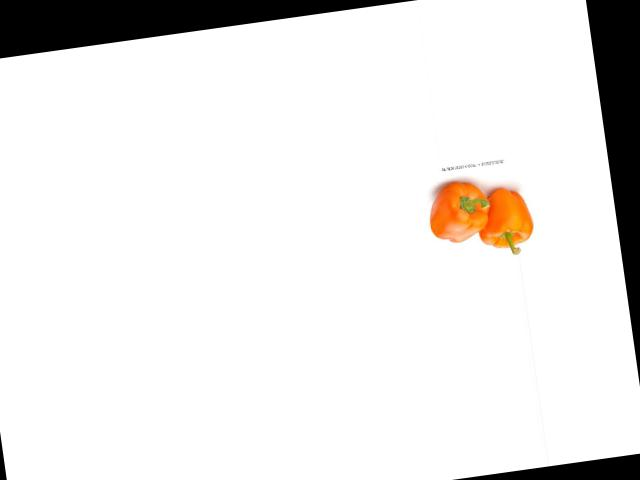bell_pepper: (422, 171, 496, 248)
